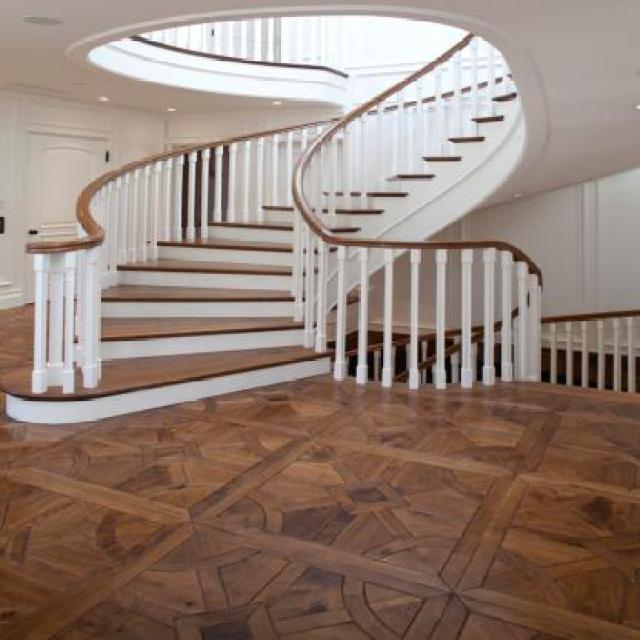stair: (6, 46, 577, 420)
